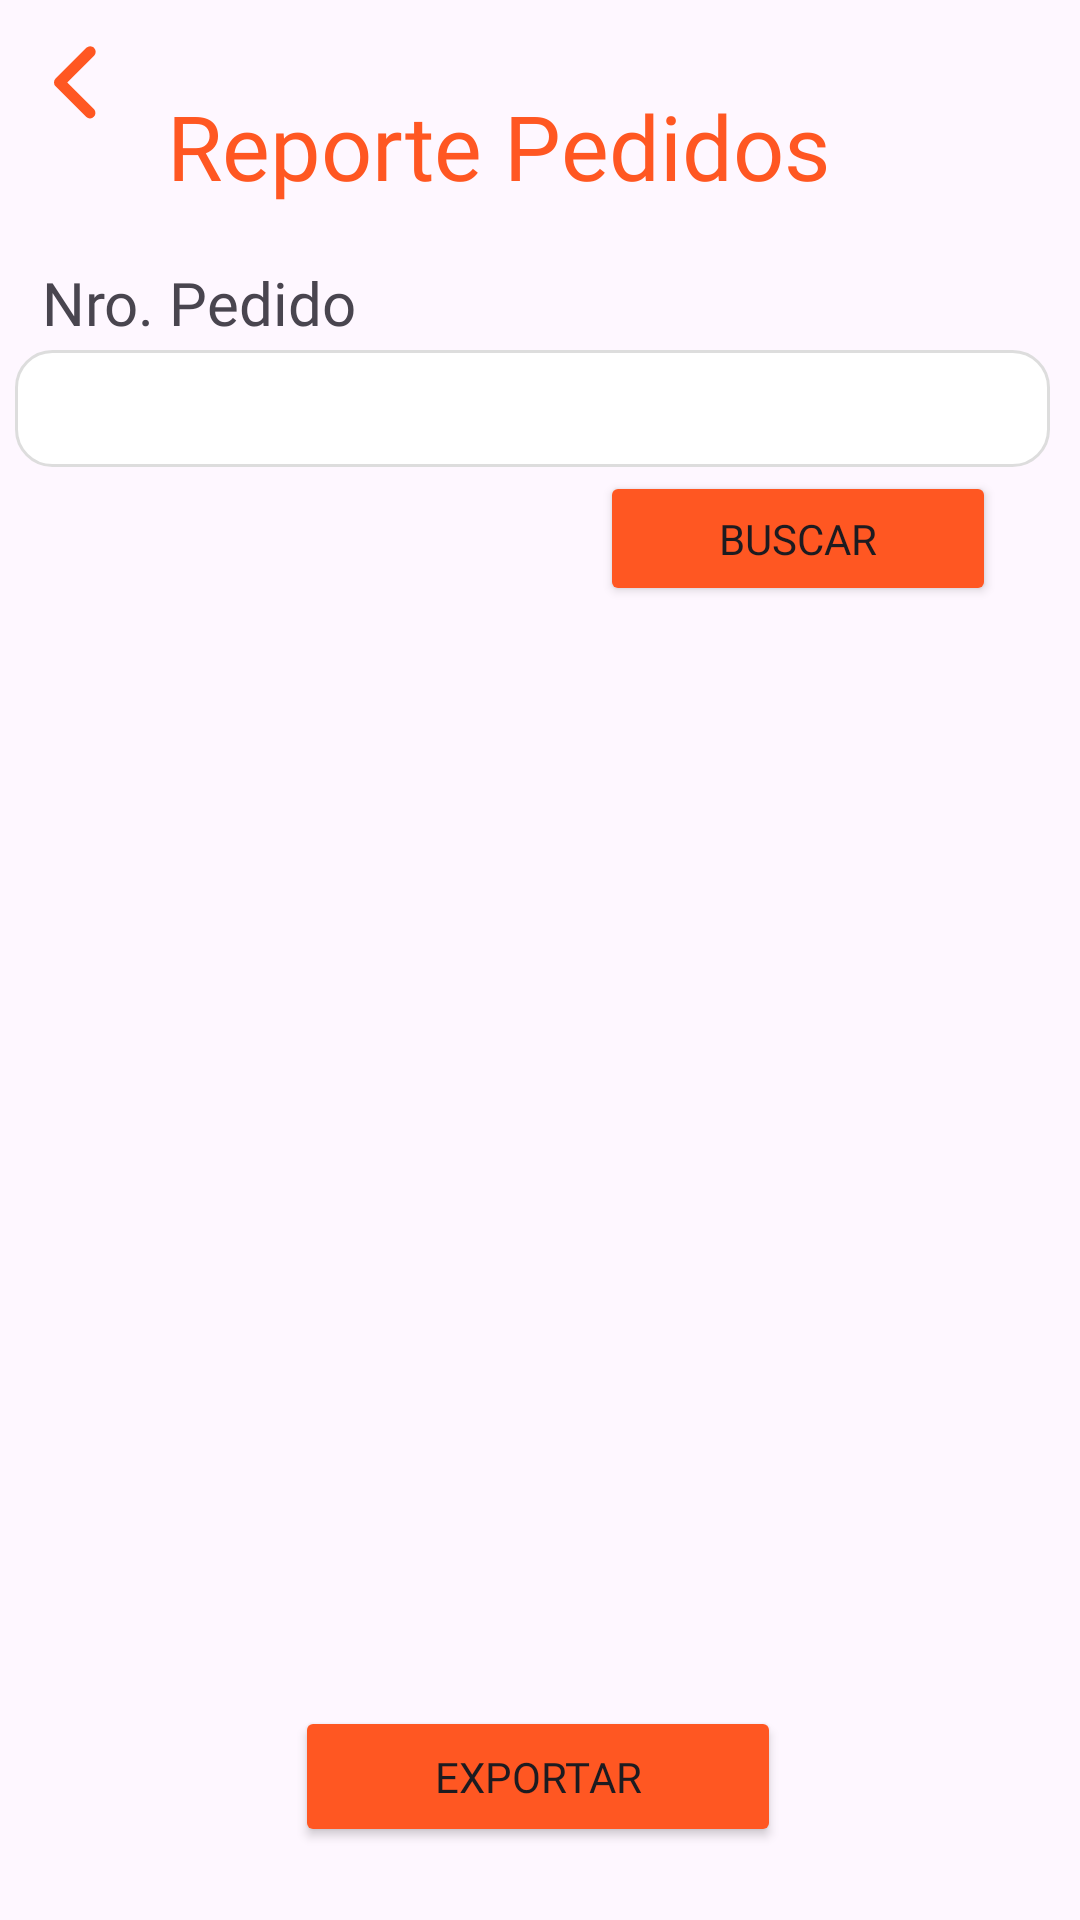

Screen size 1080 x 1920. Icon name, then its center in pixels as [x,y]:
flecha atras: [75,82]
